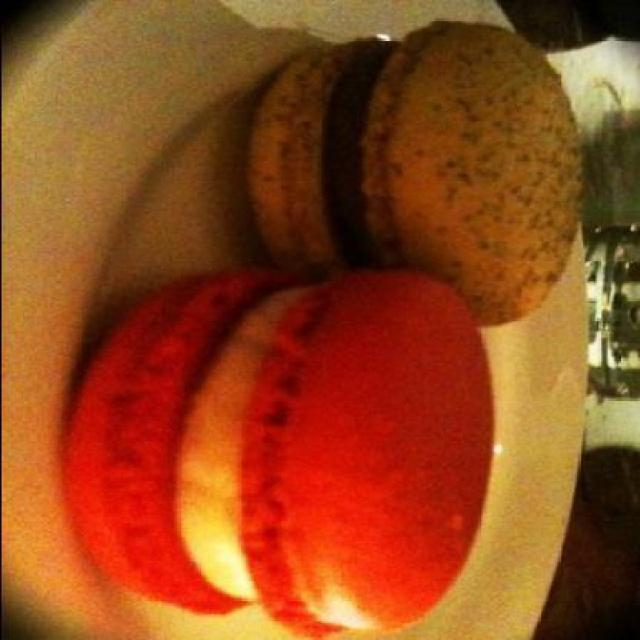Macaron: (50, 16, 587, 638)
